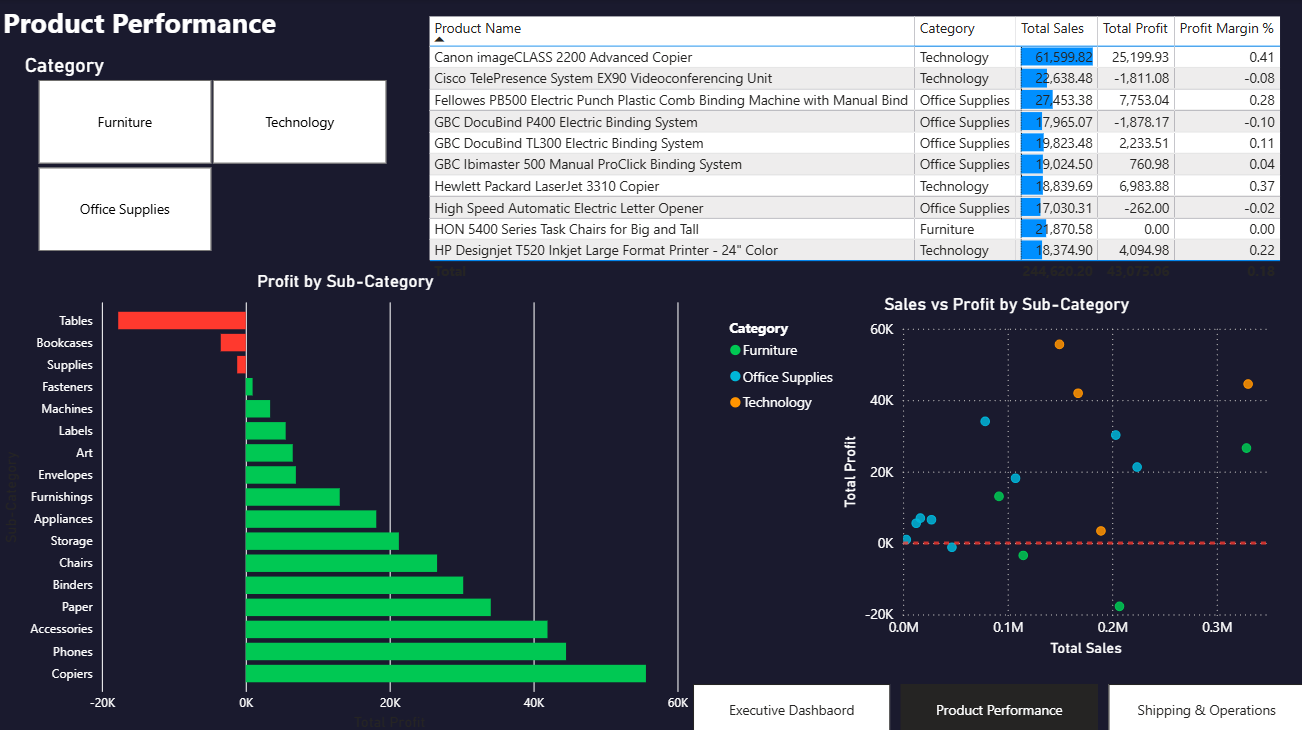

The dashboard page shown, as its layout file describes it:
{"tool":"powerbi","page":{"name":"Product Performance","canvas":[1280,720],"ordinal":1},"visuals":[{"type":"textbox","box":[0,0,1280.3,61.1],"z":0},{"type":"scatterChart","title":"Sales vs Profit by Sub-Category","fields":{"X":["_Measures.Total Sales"],"Y":["_Measures.Total Profit"],"Series":["Sample - Superstore.Category"],"Category":["Sample - Superstore.Sub-Category"]},"box":[710.5,288.6,552.7,359.5],"z":1000},{"type":"tableEx","fields":{"Values":["Sample - Superstore.Product Name","Sample - Superstore.Category","_Measures.Total Sales","_Measures.Total Profit","_Measures.Profit Margin %"]},"box":[415.8,12.2,864.5,277.6],"z":2000},{"type":"clusteredBarChart","title":"Profit by Sub-Category","fields":{"Category":["Sample - Superstore.Sub-Category"],"Y":["_Measures.Total Profit"]},"box":[0,265.4,679.9,454.9],"z":3000},{"type":"slicer","title":"Category","fields":{"Values":["Sample - Superstore.Category"]},"box":[13.5,48.9,390.1,204.2],"z":4000},{"type":"pageNavigator","box":[679.6,669.9,600.4,50.1],"z":4001}]}

Visuals, with their boxes in screenshot pixels (x1, y1, x2, y2), scaled from the page's 1280x720 canvas onto the 1302x730 screenshot:
textbox: [0, 0, 1301, 62]
"Sales vs Profit by Sub-Category" scatterChart: [723, 293, 1285, 657]
tableEx - Sample - Superstore.Product Name x Sample - Superstore.Category: [423, 12, 1301, 294]
"Profit by Sub-Category" clusteredBarChart: [0, 269, 692, 729]
"Category" slicer: [14, 50, 411, 257]
pageNavigator: [691, 679, 1301, 729]
